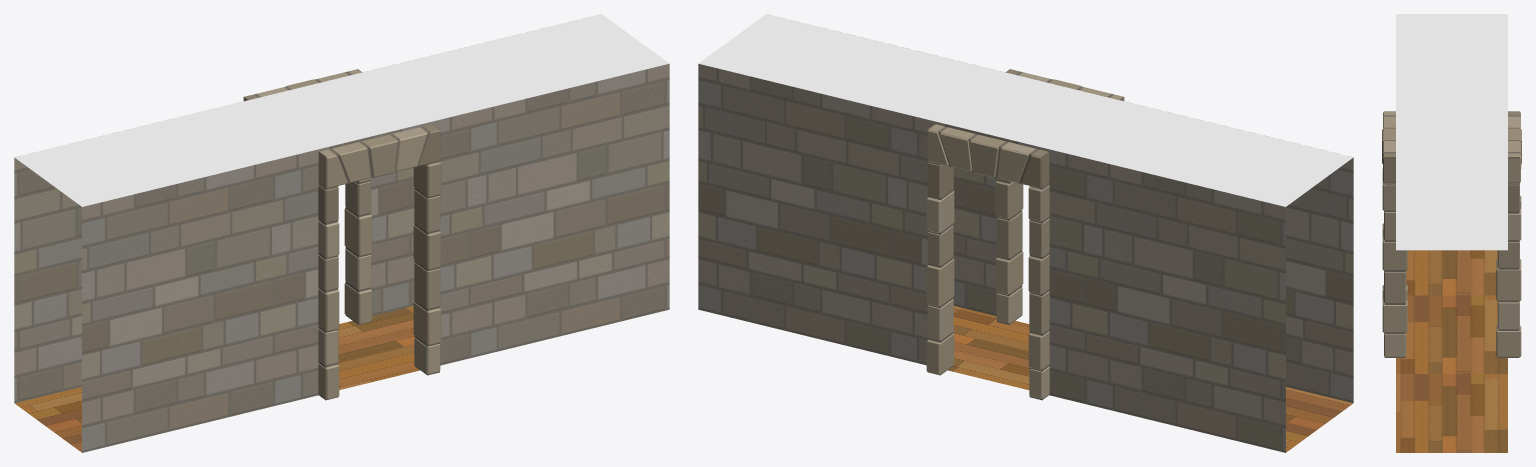
Rendered from pasillo.glb.
The picture shows the model from 3 angles, left to right: view 1: azimuth 30°, elevation 25°; view 2: azimuth 150°, elevation 25°; view 3: azimuth 270°, elevation 25°; orthographic projection. The views are drawn at different scales.
Visible parts, largest first — view 1: pasillo-2, pasillo-1, pasillo-0; view 2: pasillo-2, pasillo-1, pasillo-0; view 3: pasillo-1, pasillo-0.
Boxes of the visible parts, bbox=[...] form: pasillo-2: bbox=[14, 63, 669, 452]; pasillo-1: bbox=[15, 14, 668, 400]; pasillo-0: bbox=[15, 306, 419, 452]; pasillo-2: bbox=[698, 63, 1353, 452]; pasillo-1: bbox=[699, 14, 1352, 400]; pasillo-0: bbox=[948, 306, 1352, 452]; pasillo-1: bbox=[1382, 14, 1521, 357]; pasillo-0: bbox=[1396, 250, 1507, 452].
Size of the model in its own units: 6 by 2.4 by 1.5.
3 materials, 2 textured.
